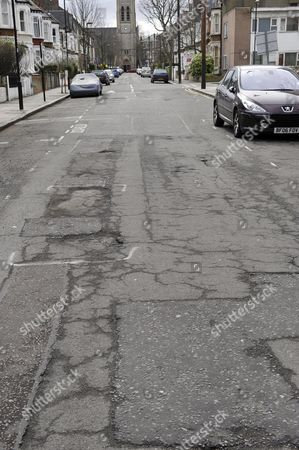pothole: (13, 231, 129, 260), (55, 174, 110, 225), (96, 140, 124, 169)
